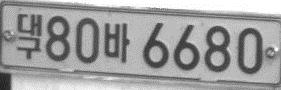0: (236, 27, 263, 74), (75, 16, 99, 64)
6: (142, 22, 169, 68), (173, 24, 200, 70)
8: (203, 25, 231, 72), (44, 15, 70, 61)
대구_V: (16, 13, 42, 59)
바: (103, 22, 131, 63)
